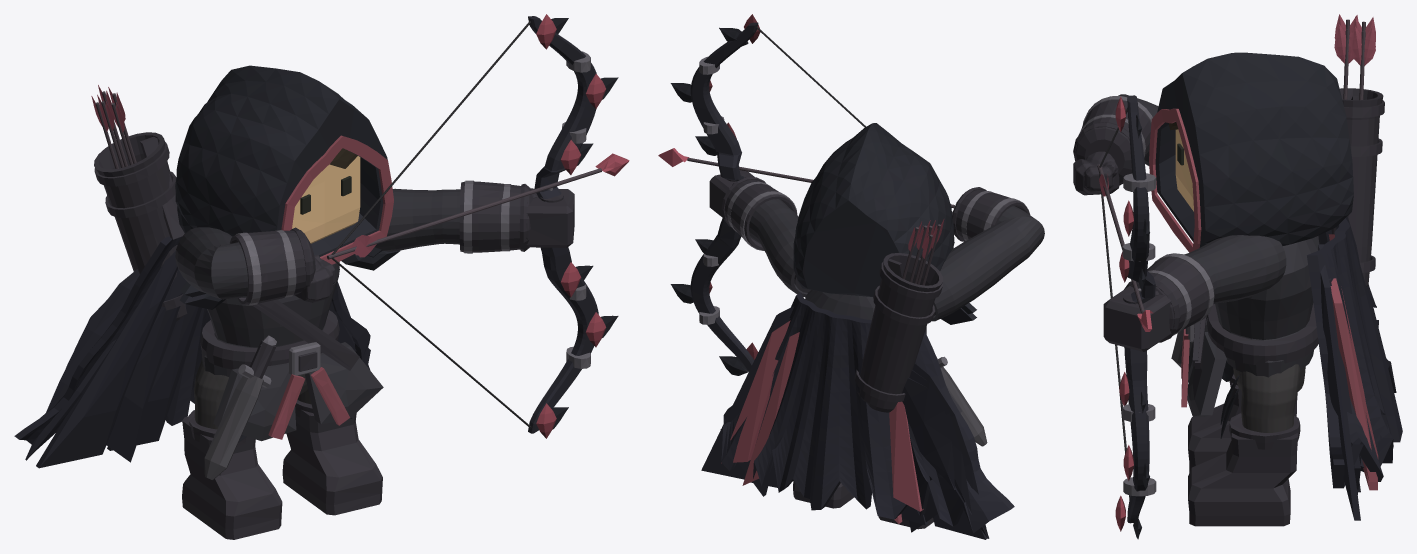
File: elvenking.glb
The picture shows the model from 3 angles, left to right: view 1: azimuth 30°, elevation 25°; view 2: azimuth 150°, elevation 25°; view 3: azimuth 270°, elevation 25°; orthographic projection. The views are drawn at different scales.
Visible parts, largest first — view 1: Hood — peaked source fold facets and closed fitted inner cav, RIGHT broad hanging cape crease 3, LEFT boot — broad source angular toe ankle and fitted shaft, RIGHT boot — broad source angular toe ankle and fitted shaft, LEFT extended bow arm hand — one connected source glove wris, Cape — attached substantial torn folded cloth, RIGHT drawn arrow arm hand — one connected source glove wris, RIGHT rear quiver — substantial hollow leather cup with actu, Torso — clothed rib cage abdomen and fitted shoulder transit, RIGHT drawn arrow arm — full outer sleeve with open fitted w, RIGHT broad hanging cape crease 2, LEFT extended bow arm — full outer sleeve with open fitted w (+19 smaller); view 2: Cape — attached substantial torn folded cloth, Hood — peaked source fold facets and closed fitted inner cav, RIGHT rear quiver — substantial hollow leather cup with actu, RIGHT drawn arrow arm — full outer sleeve with open fitted w, Oathbreaker — attached asymmetric long torn cloak field 3, Upper bow limb — shooting-plane broad angular taper and real, LEFT extended bow arm hand — one connected source glove wris, LEFT extended bow arm — full outer sleeve with open fitted w, Oathbreaker muted red torn cape insert -1 1, Lower bow limb — shooting-plane broad angular taper and real, RIGHT drawn arrow arm hand — one connected source glove wris, Oathbreaker muted red torn cape insert 1 1 (+11 smaller); view 3: Hood — peaked source fold facets and closed fitted inner cav, Cape — attached substantial torn folded cloth, LEFT boot — broad source angular toe ankle and fitted shaft, LEFT extended bow arm hand — one connected source glove wris, Torso — clothed rib cage abdomen and fitted shoulder transit, RIGHT drawn arrow arm hand — one connected source glove wris, LEFT extended bow arm — full outer sleeve with open fitted w, RIGHT rear quiver — substantial hollow leather cup with actu, Ranger — connected pelvis thighs knees and calves under clot, Belt — fitted broad leather wrap, LEFT broad hanging cape crease 3, Upper bow limb — shooting-plane broad angular taper and real (+14 smaller).
Part boxes in pixels (x1,y1,x2,y2): Hood — peaked source fold facets and closed fitted inner cav: (175, 65, 387, 256); RIGHT broad hanging cape crease 3: (36, 250, 177, 468); LEFT boot — broad source angular toe ankle and fitted shaft: (282, 409, 382, 515); RIGHT boot — broad source angular toe ankle and fitted shaft: (182, 416, 282, 539); LEFT extended bow arm hand — one connected source glove wris: (459, 180, 574, 253); Cape — attached substantial torn folded cloth: (14, 236, 370, 444); RIGHT drawn arrow arm hand — one connected source glove wris: (230, 227, 335, 305); RIGHT rear quiver — substantial hollow leather cup with actu: (94, 132, 187, 320); Torso — clothed rib cage abdomen and fitted shoulder transit: (201, 262, 339, 376); RIGHT drawn arrow arm — full outer sleeve with open fitted w: (175, 227, 248, 299); RIGHT broad hanging cape crease 2: (106, 268, 185, 462); LEFT extended bow arm — full outer sleeve with open fitted w: (375, 188, 460, 251); Cape — attached substantial torn folded cloth: (720, 292, 1014, 533); Hood — peaked source fold facets and closed fitted inner cav: (793, 123, 954, 296); RIGHT rear quiver — substantial hollow leather cup with actu: (857, 253, 943, 412); RIGHT drawn arrow arm — full outer sleeve with open fitted w: (931, 206, 1044, 321); Oathbreaker — attached asymmetric long torn cloak field 3: (902, 377, 955, 489); Upper bow limb — shooting-plane broad angular taper and real: (690, 22, 758, 181); LEFT extended bow arm hand — one connected source glove wris: (709, 170, 797, 250); LEFT extended bow arm — full outer sleeve with open fitted w: (749, 199, 807, 296); Oathbreaker muted red torn cape insert -1 1: (721, 320, 790, 463); Lower bow limb — shooting-plane broad angular taper and real: (690, 218, 754, 371); RIGHT drawn arrow arm hand — one connected source glove wris: (952, 187, 1030, 241); Oathbreaker muted red torn cape insert 1 1: (889, 401, 923, 511); Hood — peaked source fold facets and closed fitted inner cav: (1155, 52, 1353, 247); Cape — attached substantial torn folded cloth: (1307, 216, 1402, 488); LEFT boot — broad source angular toe ankle and fitted shaft: (1188, 433, 1297, 526); LEFT extended bow arm hand — one connected source glove wris: (1103, 253, 1214, 351); Torso — clothed rib cage abdomen and fitted shoulder transit: (1215, 236, 1319, 377); RIGHT drawn arrow arm hand — one connected source glove wris: (1073, 96, 1152, 195); LEFT extended bow arm — full outer sleeve with open fitted w: (1185, 235, 1286, 304); RIGHT rear quiver — substantial hollow leather cup with actu: (1331, 88, 1383, 286); Ranger — connected pelvis thighs knees and calves under clot: (1233, 364, 1305, 432); Belt — fitted broad leather wrap: (1206, 303, 1318, 365); LEFT broad hanging cape crease 3: (1320, 265, 1360, 520); Upper bow limb — shooting-plane broad angular taper and real: (1127, 95, 1155, 303).
Bounding box in the file's own units: 1.3 × 1.16 × 0.703.
